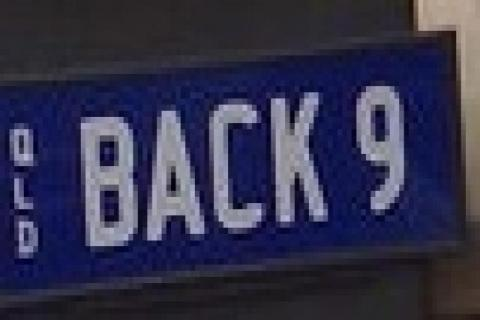LicensePlate: (3, 65, 480, 312), (321, 144, 355, 172)
